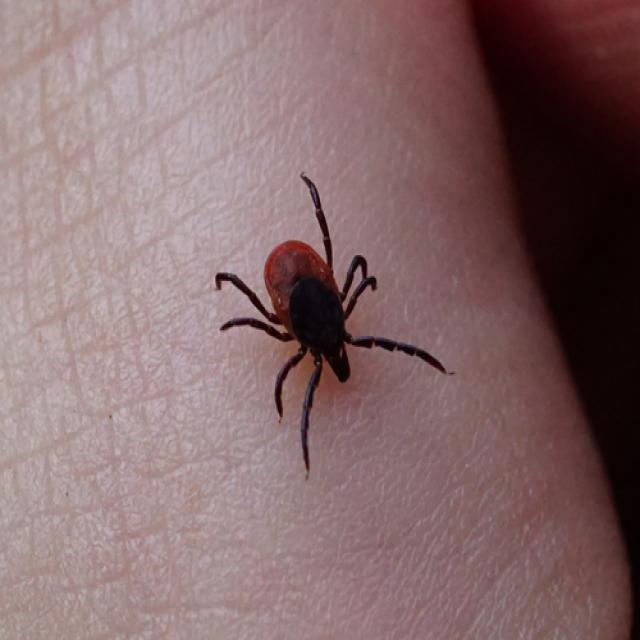Ixodes Ricinus-F: (215, 183, 451, 478)
